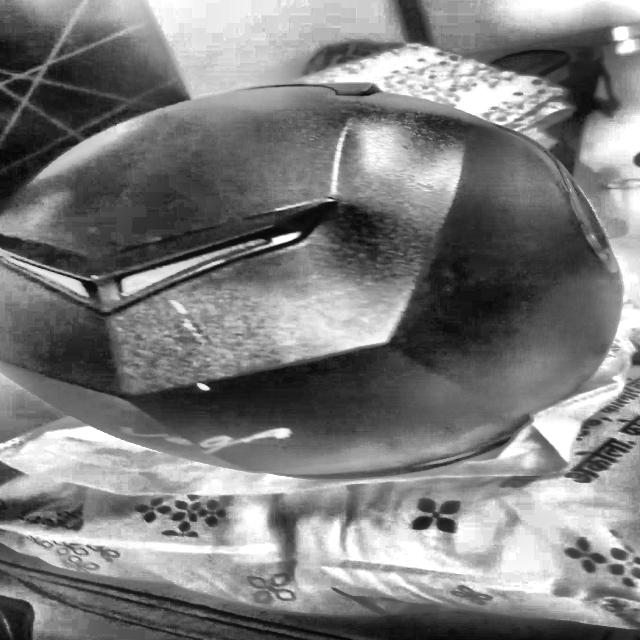Helmet: (0, 79, 610, 480)
